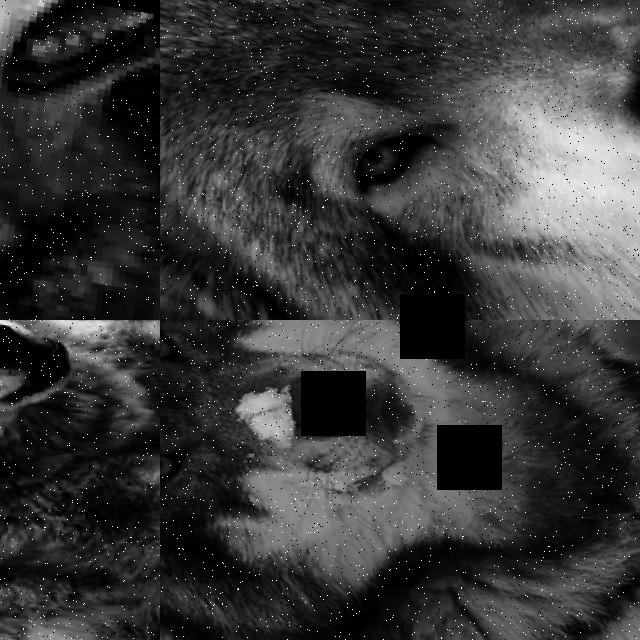wolf: (160, 0, 640, 320), (160, 320, 640, 640), (0, 0, 160, 320), (0, 320, 160, 640)
